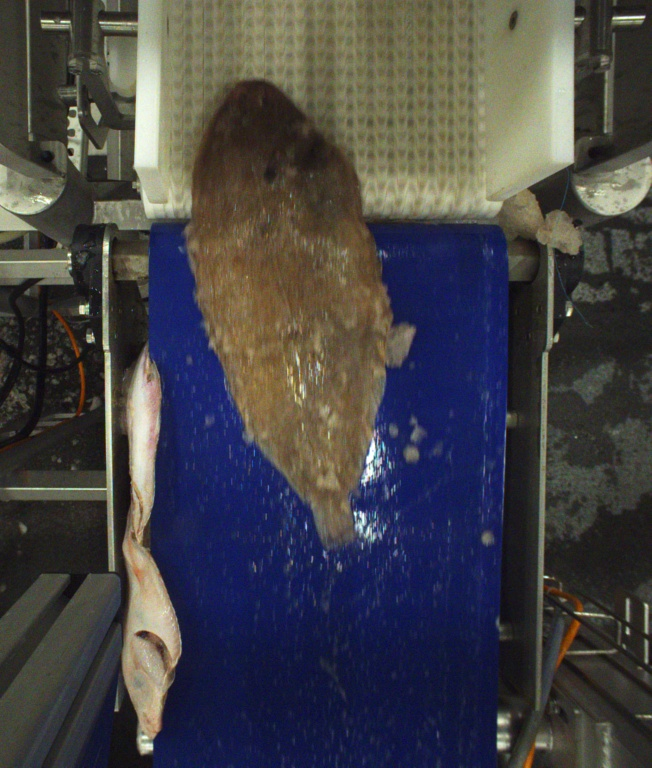SOL: (186, 80, 391, 545)
